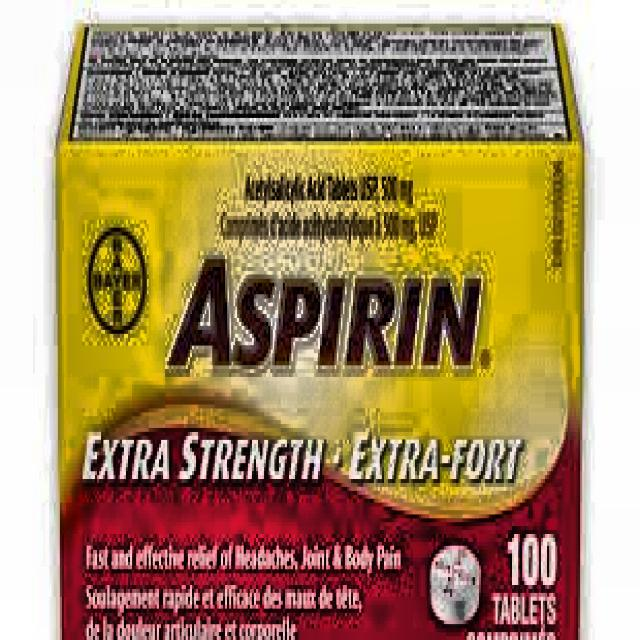Aspirin: (56, 151, 585, 640)
